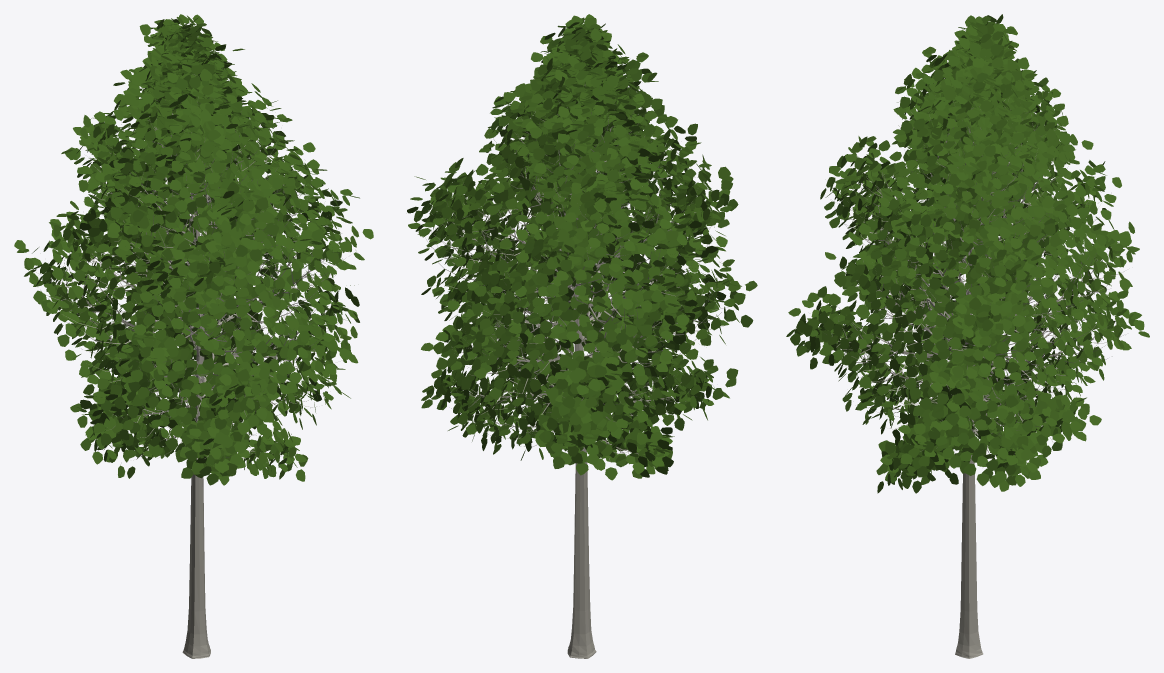
The model's file is quakingAspen.obj.
The picture shows the model from 3 angles, left to right: view 1: azimuth 30°, elevation 25°; view 2: azimuth 150°, elevation 25°; view 3: azimuth 270°, elevation 25°; orthographic projection.
Visible parts, largest first — view 1: leaves, leaves2, stems_2, trunk, stems_1; view 2: leaves, leaves2, stems_2, trunk, stems_1; view 3: leaves, leaves2, stems_2, trunk, stems_1.
Part boxes in pixels (x1,y1,x2,y2): leaves: (14, 16, 373, 483); leaves2: (15, 14, 363, 485); stems_2: (34, 52, 345, 463); trunk: (182, 194, 210, 658); stems_1: (61, 113, 326, 453); leaves: (408, 15, 756, 480); leaves2: (407, 14, 757, 478); stems_2: (426, 64, 727, 462); trunk: (567, 157, 596, 658); stems_1: (449, 85, 708, 453); leaves: (788, 14, 1149, 493); leaves2: (786, 15, 1148, 491); stems_2: (802, 93, 1124, 473); trunk: (955, 247, 983, 658); stems_1: (832, 125, 1094, 435).
Size of the model in its own units: 7.54 by 14.87 by 7.82.
